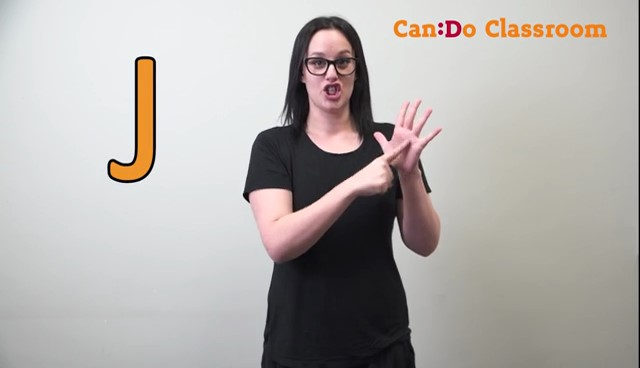J: (357, 92, 454, 199)
